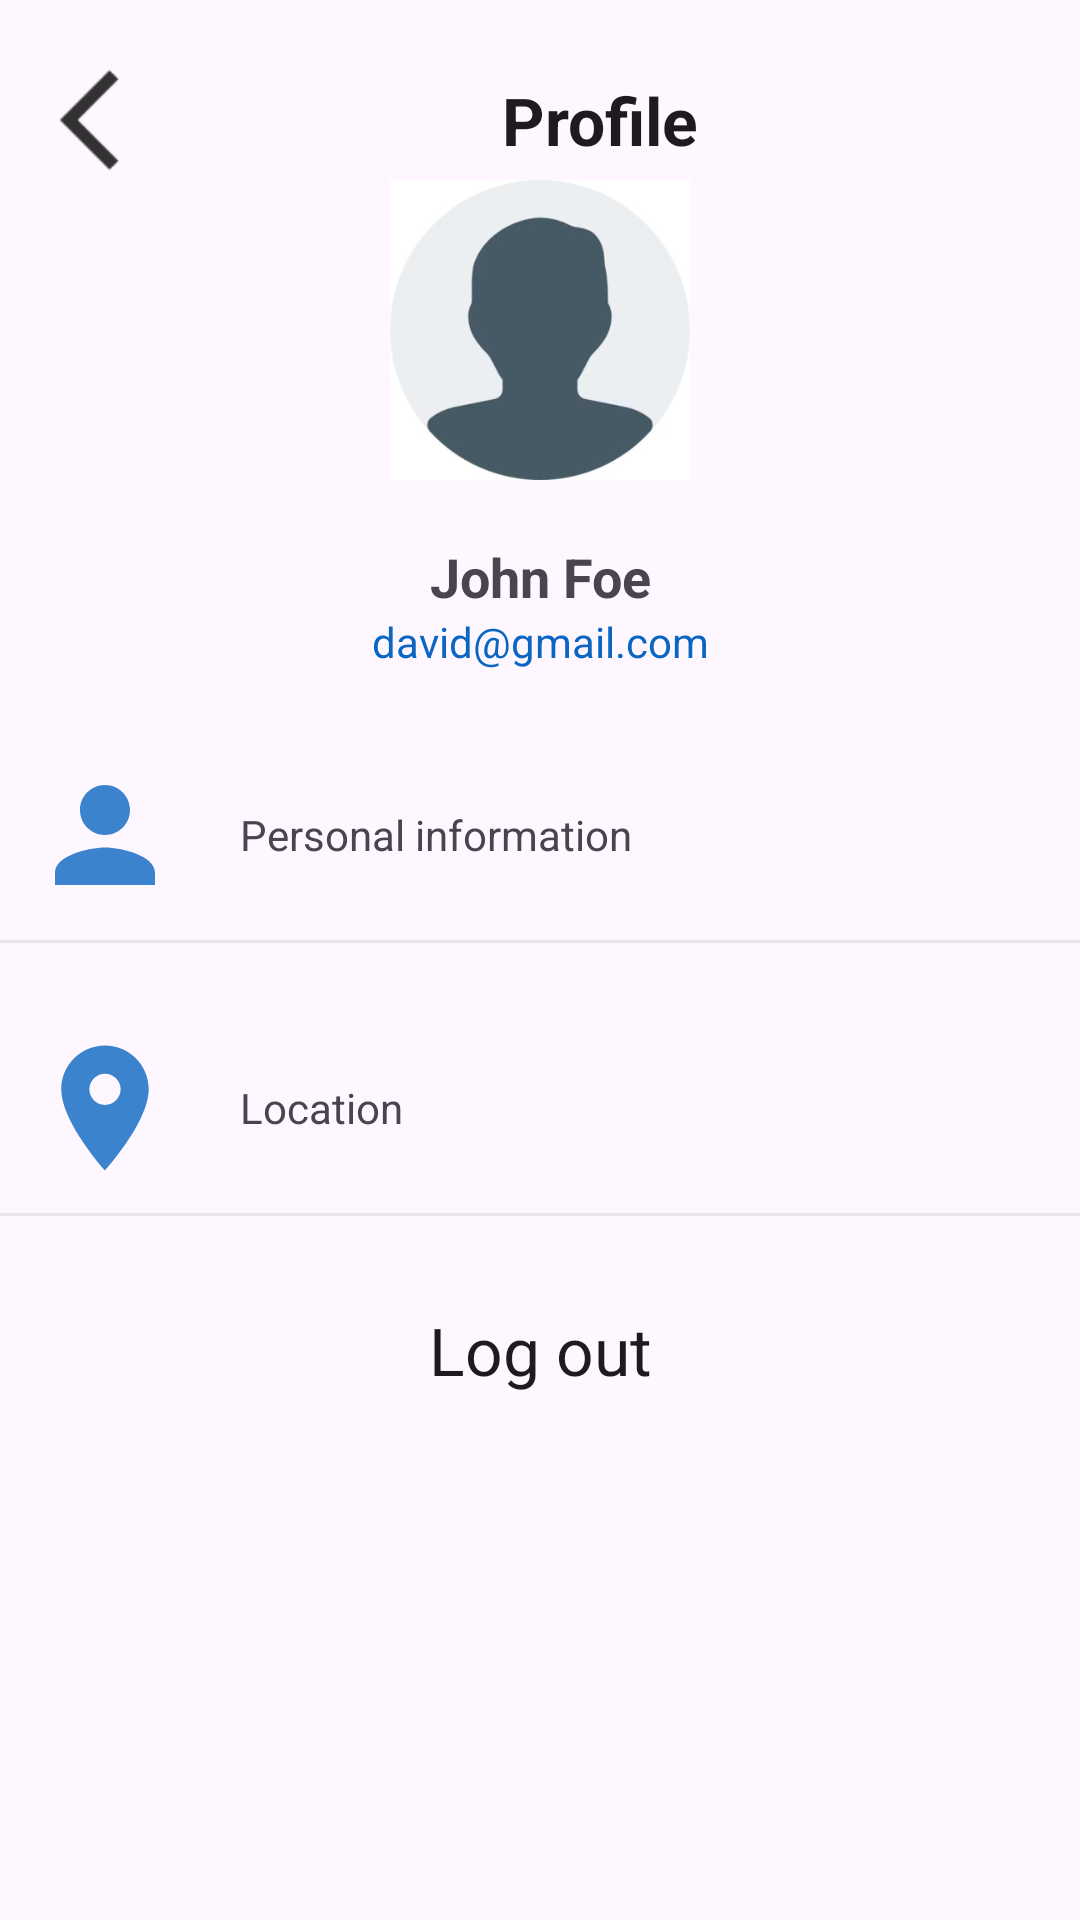

Named icons in this screenshot (1080*1920) and their centers, point (x, y):
avator: point (540, 347)
back: point (89, 120)
profile: point (105, 835)
